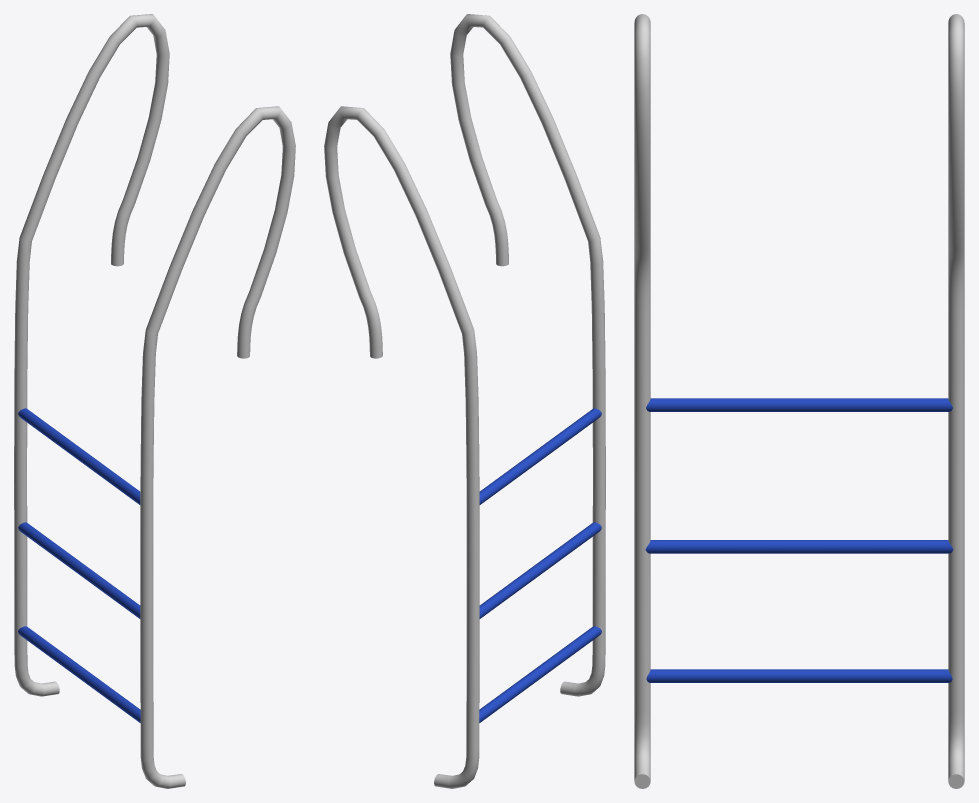
The model's file is EscaleraPiscina.FBX.
3 views of the same model, side by side, from view 1: azimuth 30°, elevation 25°; view 2: azimuth 150°, elevation 25°; view 3: azimuth 270°, elevation 25° (orthographic). The views are drawn at different scales.
Visible parts, largest first — view 1: Escalera_Derecha, Escalera_Derecha001, Escalera_3, Escalera_2, Escalera_1; view 2: Escalera_Derecha001, Escalera_Derecha, Escalera_3, Escalera_2, Escalera_1; view 3: Escalera_Derecha, Escalera_Derecha001, Escalera_2, Escalera_1, Escalera_3.
Part boxes in pixels (left/top/right/bottom): Escalera_Derecha: left=140, top=106, right=295, bottom=788; Escalera_Derecha001: left=14, top=14, right=169, bottom=696; Escalera_3: left=18, top=626, right=140, bottom=722; Escalera_2: left=18, top=522, right=140, bottom=618; Escalera_1: left=18, top=408, right=140, bottom=504; Escalera_Derecha001: left=324, top=106, right=479, bottom=788; Escalera_Derecha: left=450, top=14, right=605, bottom=696; Escalera_3: left=479, top=626, right=601, bottom=722; Escalera_2: left=479, top=522, right=601, bottom=618; Escalera_1: left=479, top=408, right=601, bottom=504; Escalera_Derecha: left=634, top=14, right=650, bottom=788; Escalera_Derecha001: left=948, top=14, right=964, bottom=788; Escalera_2: left=645, top=540, right=953, bottom=553; Escalera_1: left=646, top=398, right=952, bottom=411; Escalera_3: left=646, top=669, right=952, bottom=682.
Bounding box in the file's own units: 30.39 × 124 × 45.36.
Materials: 2 (2 with a texture image).
